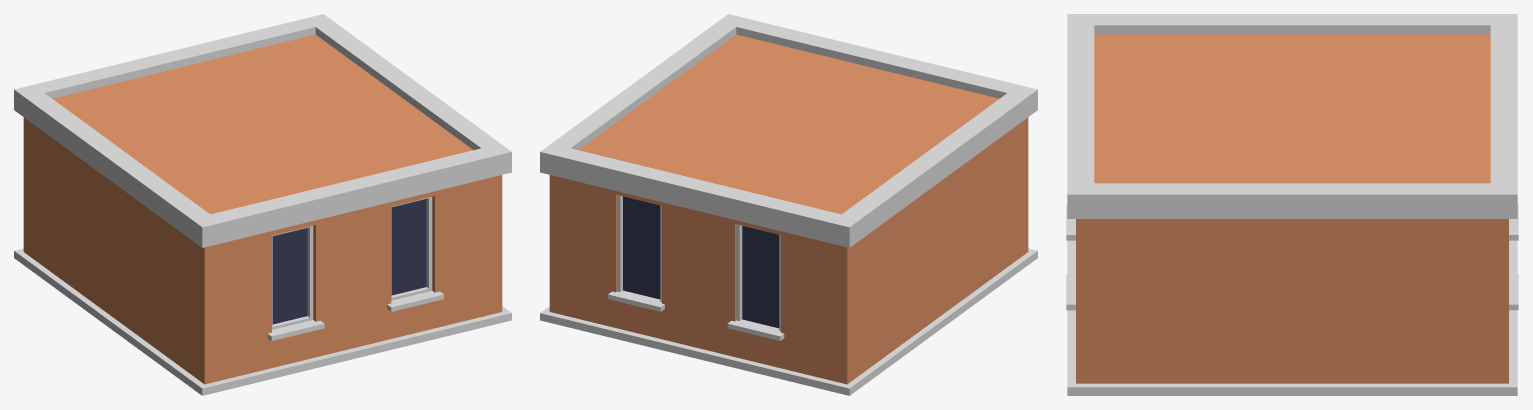
The model's file is Lowrise_Addon2.fbx.
The picture shows the model from 3 angles, left to right: view 1: azimuth 30°, elevation 25°; view 2: azimuth 150°, elevation 25°; view 3: azimuth 270°, elevation 25°; orthographic projection. The views are drawn at different scales.
Parts seen in each view (by area): view 1: House_Addon2; view 2: House_Addon2; view 3: House_Addon2.
Part boxes in pixels (bbox=[...]): House_Addon2: bbox=[14, 14, 511, 395]; House_Addon2: bbox=[540, 14, 1037, 395]; House_Addon2: bbox=[1066, 14, 1518, 395].
Bounding box in the file's own units: 7.74 × 4.03 × 8.2.
